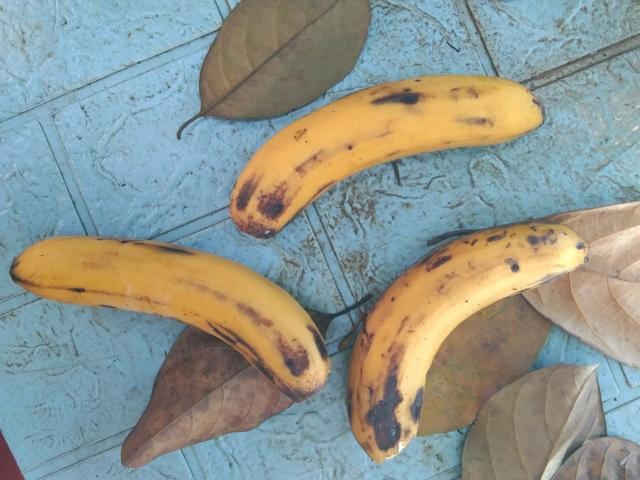overripe: (337, 216, 590, 479)
ripe: (9, 223, 334, 438), (210, 54, 554, 243)
